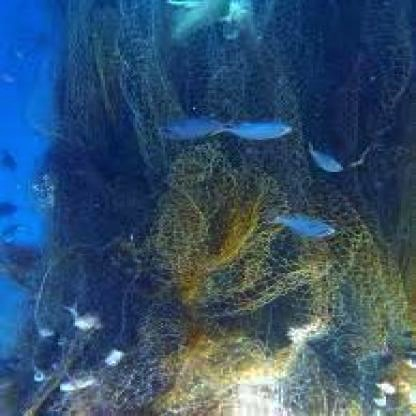net: (53, 8, 416, 416)
